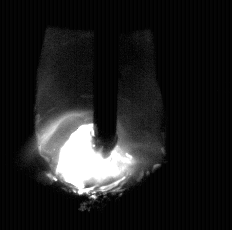arame: (94, 0, 118, 157)
poca: (35, 0, 161, 230)
